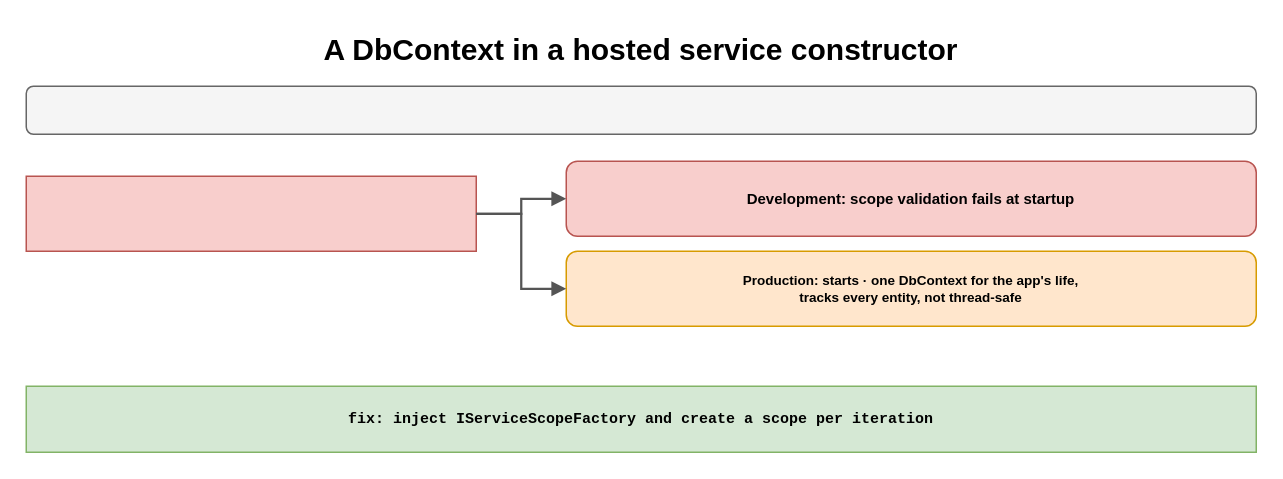
Some shapes in this 1283 by 479 pixel diagram are drawn without their labels. Here are the shapes that lost their labels. From the top down, the centre of each, then its label:
the point at 640,109: A singleton hosted service can't consume a scoped DbContext
the point at 250,213: OverdueEmailer(LibraryDb db, ...) scoped via AddDbContext
